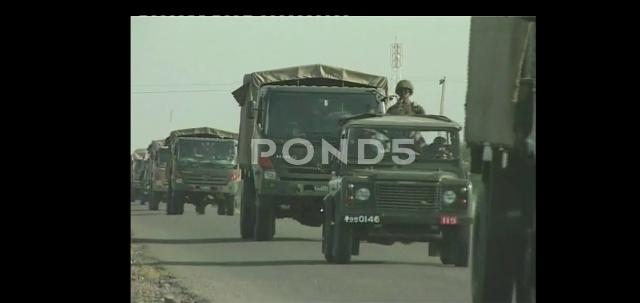plate: (341, 213, 384, 226)
